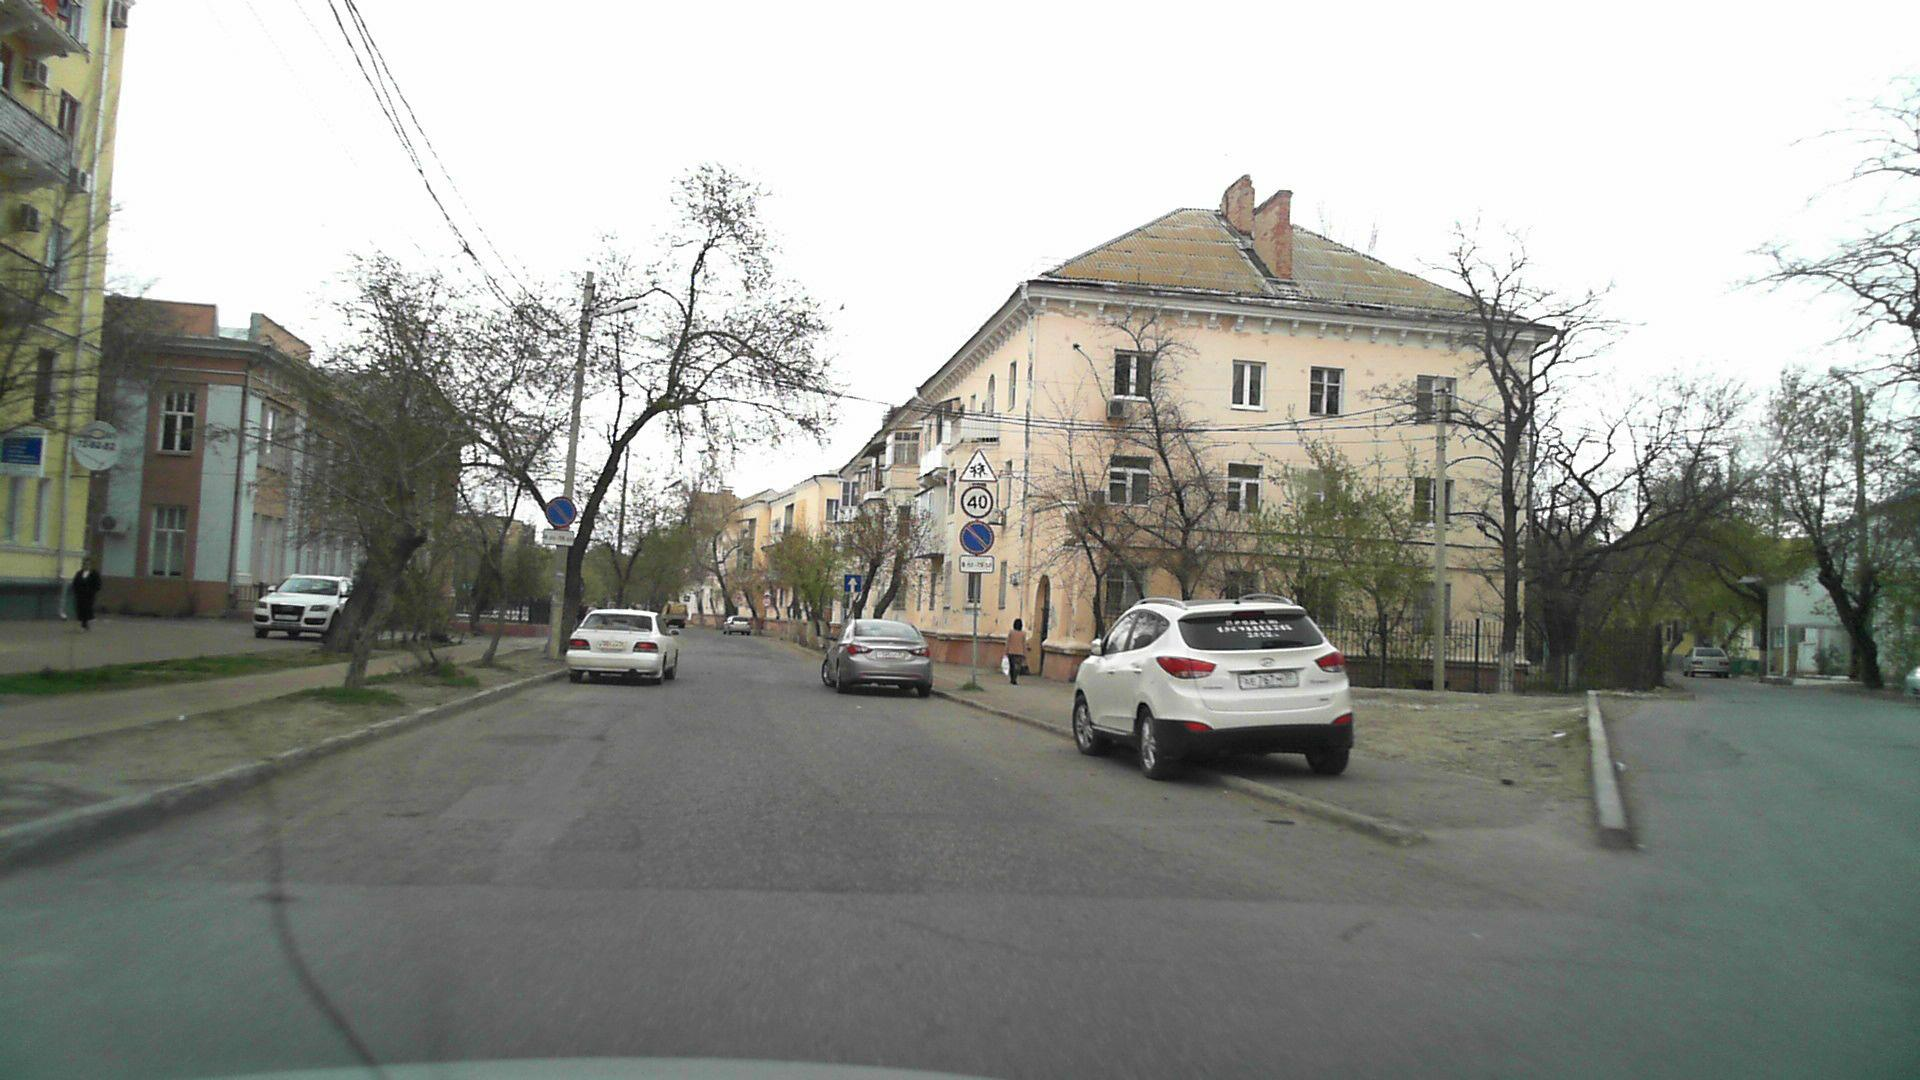1_17: (762, 589, 773, 599)
1_23: (960, 448, 998, 485)
3_24: (961, 485, 993, 518), (762, 599, 771, 605)
3_28: (960, 520, 994, 554), (545, 495, 576, 527)
5_20: (683, 595, 691, 603)
5_5: (844, 574, 861, 592)
8_5_4: (960, 554, 994, 574), (542, 529, 575, 546)
